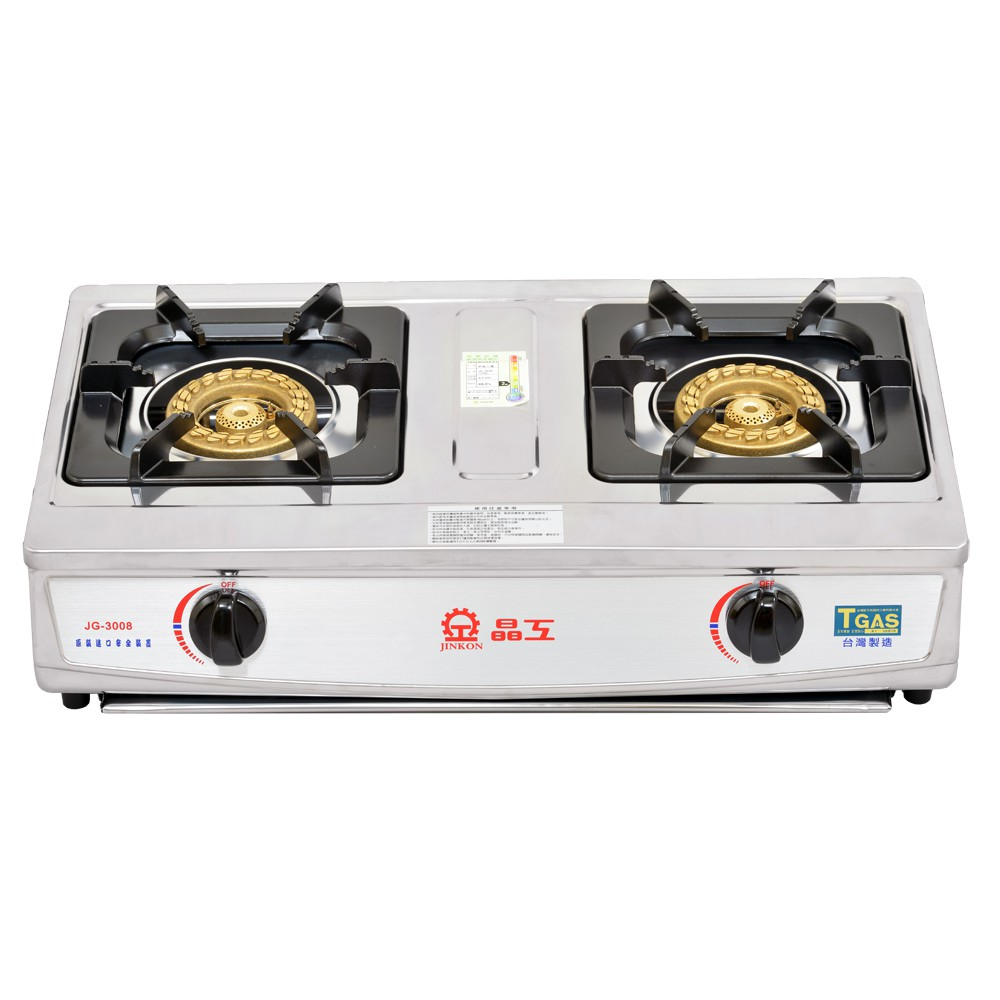gasoven: (18, 274, 974, 722)
